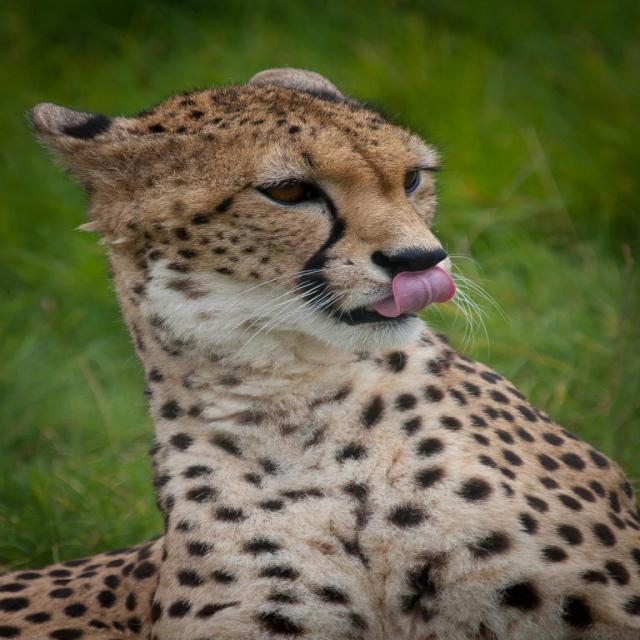Cheetah: (0, 66, 639, 639)
